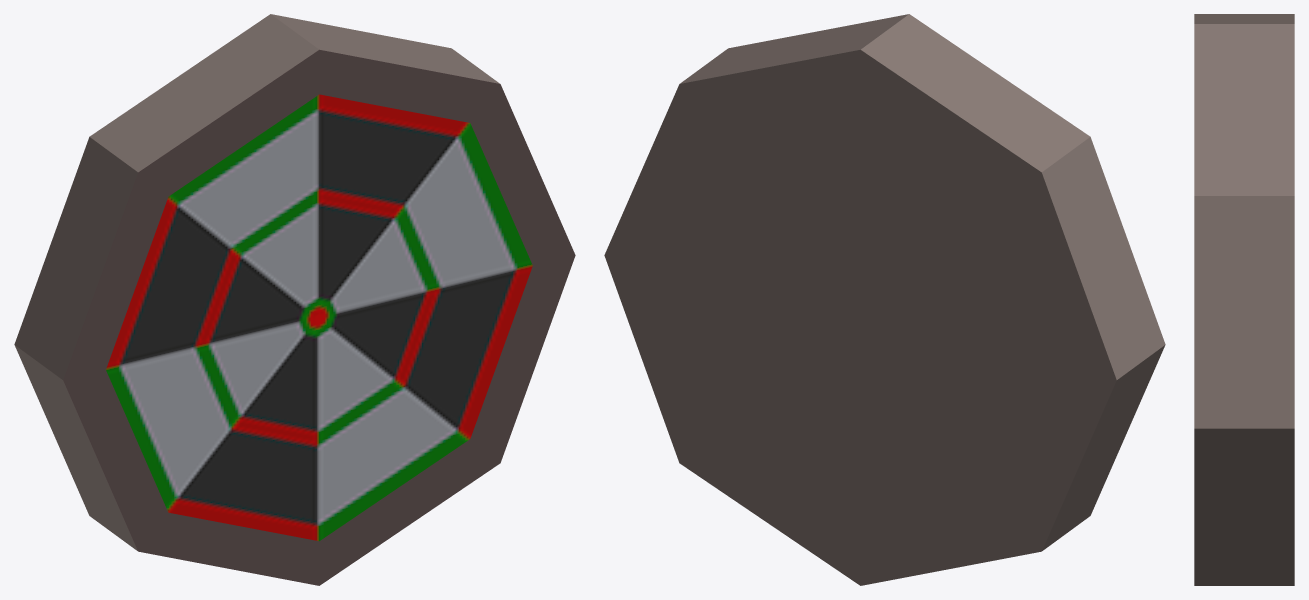
Rendered from Dartboard.fbx.
3 views of the same model, side by side, from view 1: azimuth 30°, elevation 25°; view 2: azimuth 150°, elevation 25°; view 3: azimuth 270°, elevation 25° (orthographic). The views are drawn at different scales.
Parts seen in each view (by area): view 1: Dartboard; view 2: Dartboard; view 3: Dartboard.
Boxes of the visible parts, x1,y1,x2,y2 form: Dartboard: (14,14,575,585); Dartboard: (604,14,1165,585); Dartboard: (1194,14,1294,585).
Bounding box in the file's own units: 90.86 × 90.86 × 14.99.
